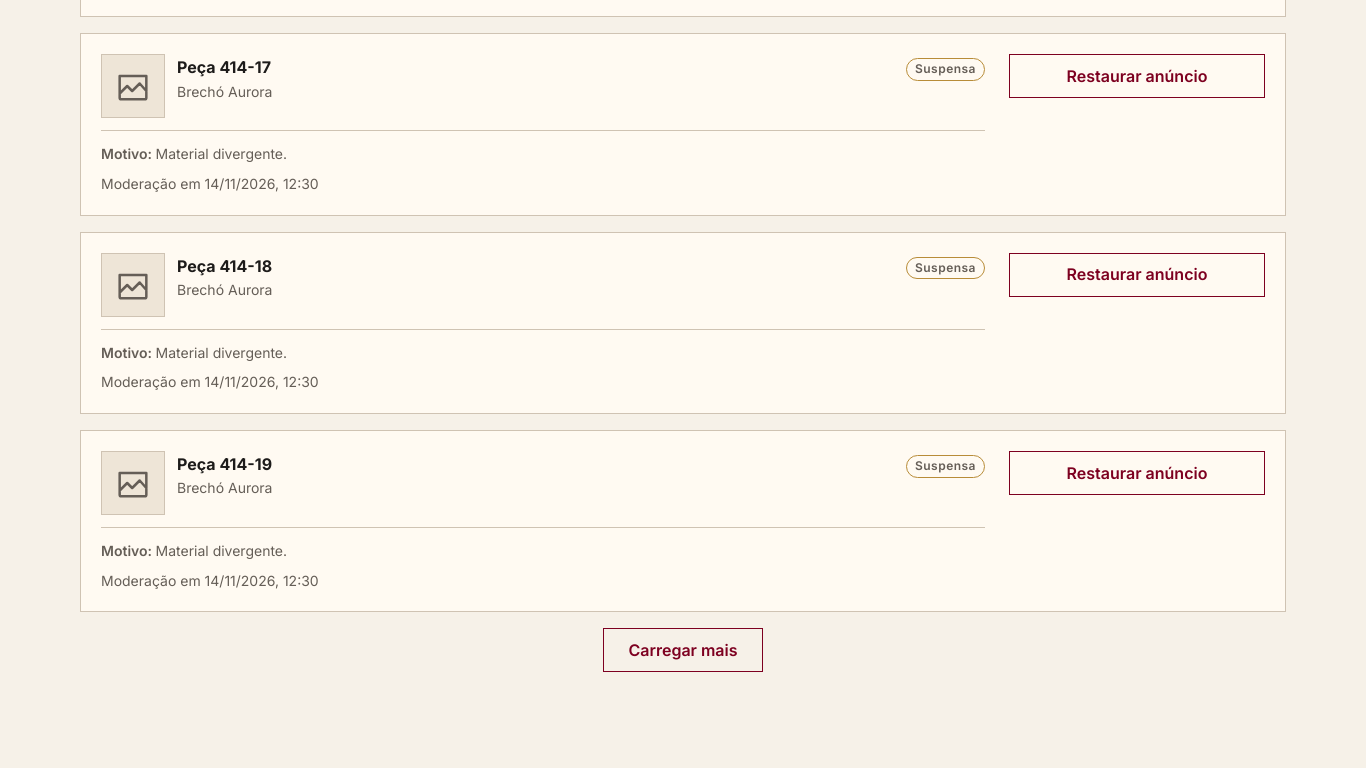
Test: ModerationQueue — RED #414 › Carregar mais mostra a próxima página e desaparece ao atingir o total
(page scrolled)
Click the button "Carregar mais": point(683, 650) [603, 628, 762, 672]
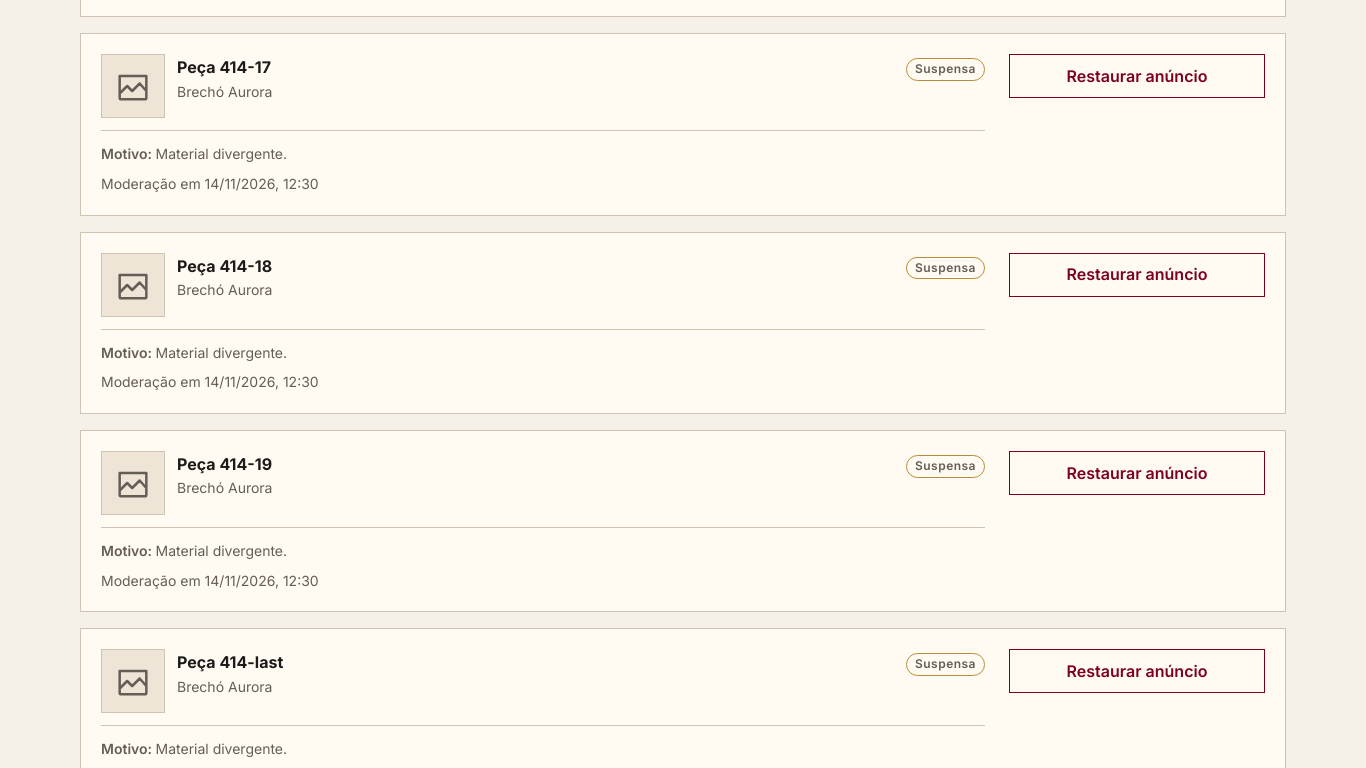
Now the heading "Peça 414-last" is shown, box [177, 652, 283, 672]
Now the button "Carregar mais" is gone
